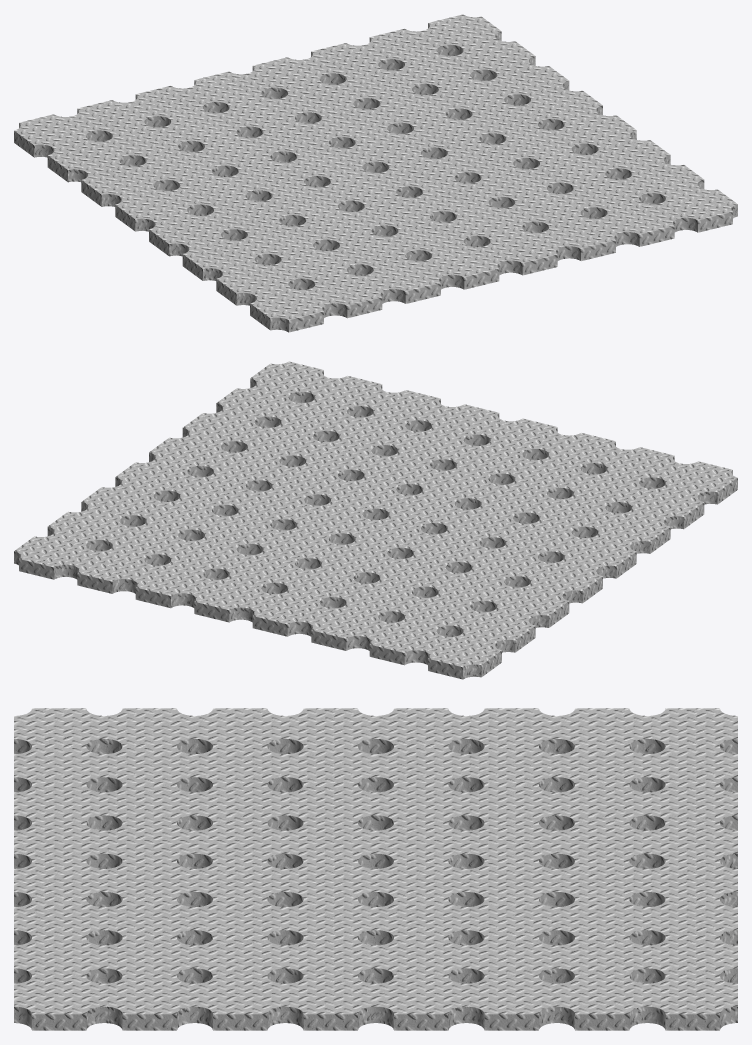
File: WalkWayIntersection.fbx
3 renders of one model, top to bottom at view 1: azimuth 30°, elevation 25°; view 2: azimuth 150°, elevation 25°; view 3: azimuth 270°, elevation 25°, orthographic. The views are drawn at different scales.
Visible parts, largest first — view 1: Model; view 2: Model; view 3: Model.
Boxes of the visible parts, bbox=[...] form: Model: bbox=[14, 14, 737, 332]; Model: bbox=[14, 361, 737, 679]; Model: bbox=[14, 708, 737, 1030].
Bounding box in the file's own units: 20 × 0.5 × 20.
